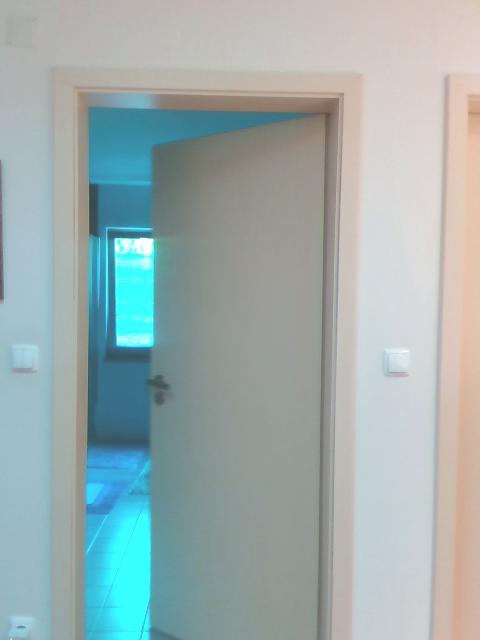semi_door: (50, 62, 362, 639)
